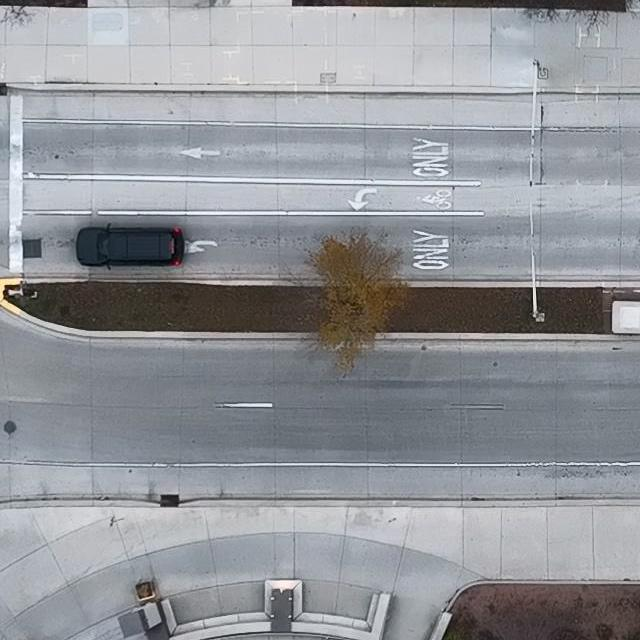car: (76, 222, 185, 270)
